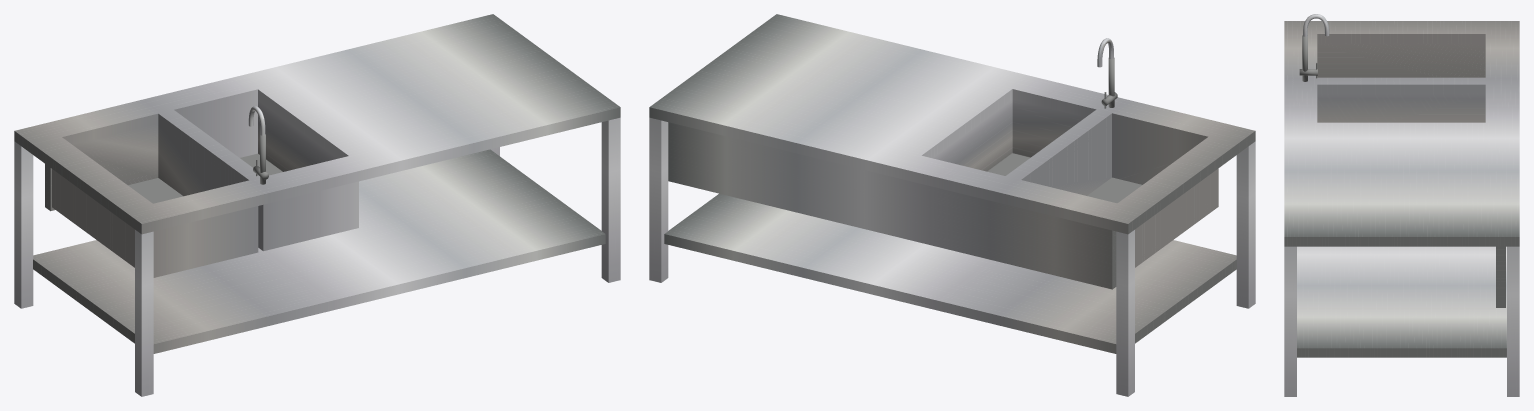
The model's file is Tarja.fbx.
3 views of the same model, side by side, from view 1: azimuth 30°, elevation 25°; view 2: azimuth 150°, elevation 25°; view 3: azimuth 270°, elevation 25° (orthographic). The views are drawn at different scales.
Parts seen in each view (by area): view 1: Plane.001; view 2: Plane.001; view 3: Plane.001.
Part boxes in pixels (bbox=[...]): Plane.001: bbox=[14, 14, 620, 396]; Plane.001: bbox=[649, 14, 1255, 396]; Plane.001: bbox=[1284, 14, 1519, 396].
Size of the model in its own units: 282 by 138 by 130.
2 materials, 2 textured.
